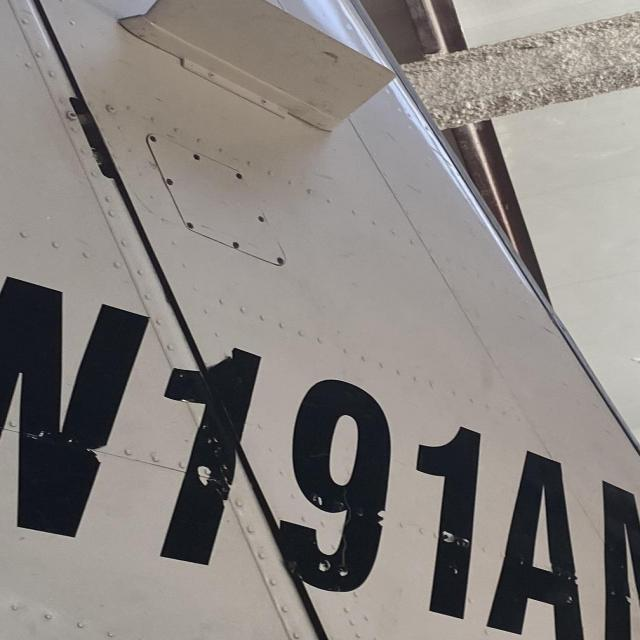Paint-off: (323, 51, 338, 62)
